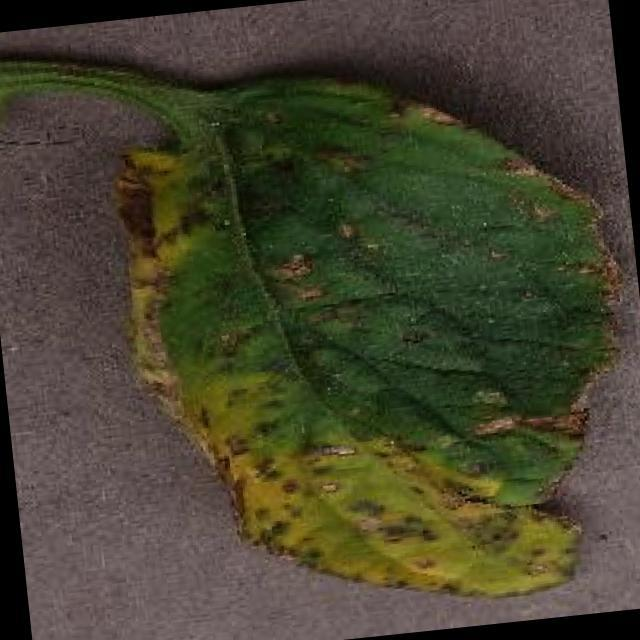Tomato bacterial spot leaf: (94, 35, 640, 640)
